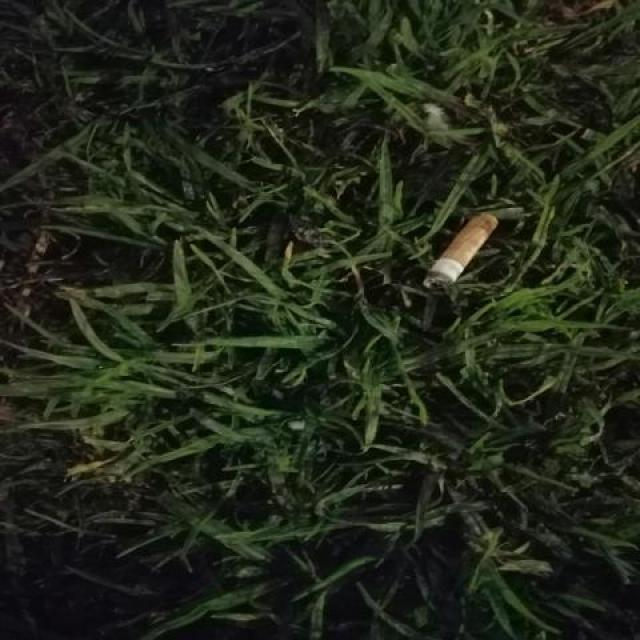non-organic waste: (417, 201, 502, 295)
